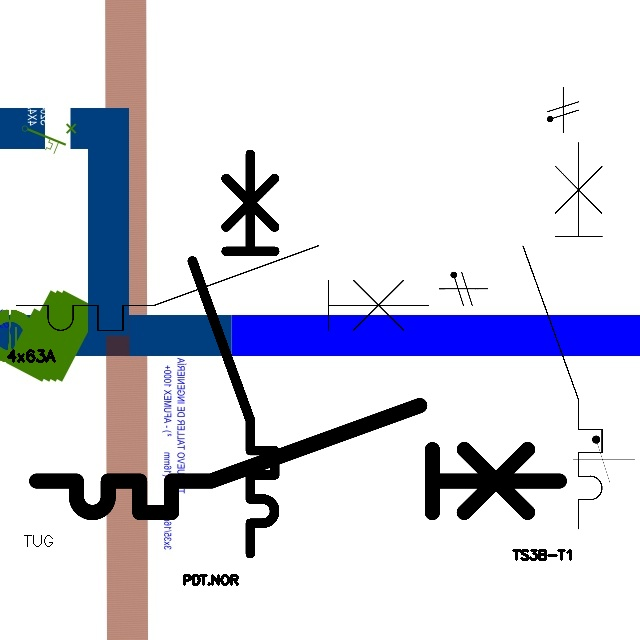interruptor_termomagnetico: (23, 392, 572, 526), (6, 235, 439, 341), (182, 144, 285, 564), (513, 132, 612, 538)
